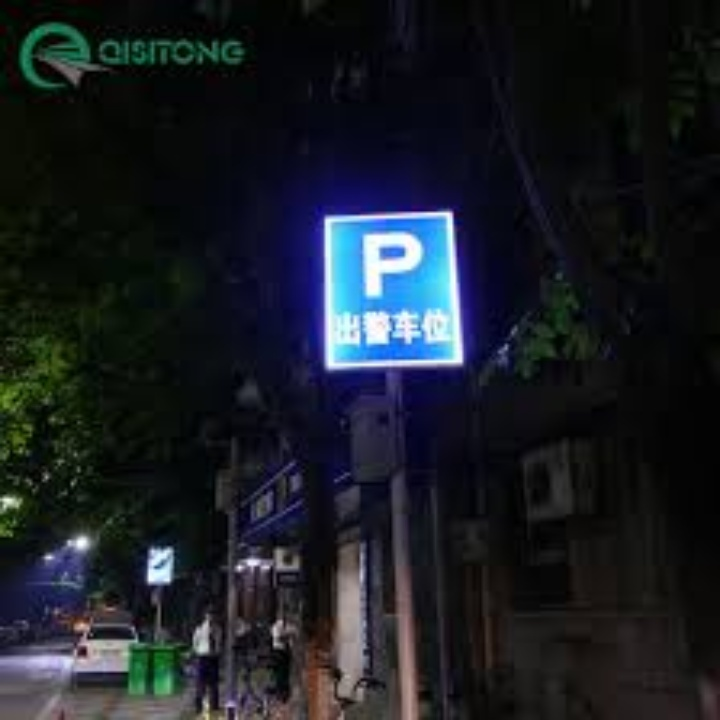parking: (356, 228, 432, 297)
